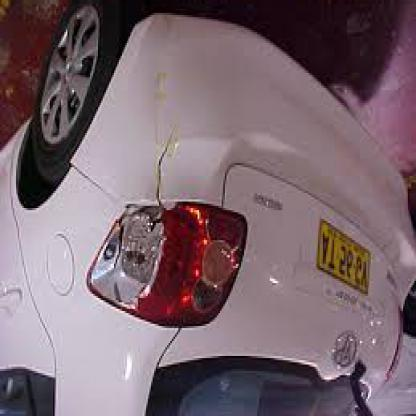dent: (152, 144, 182, 206)
